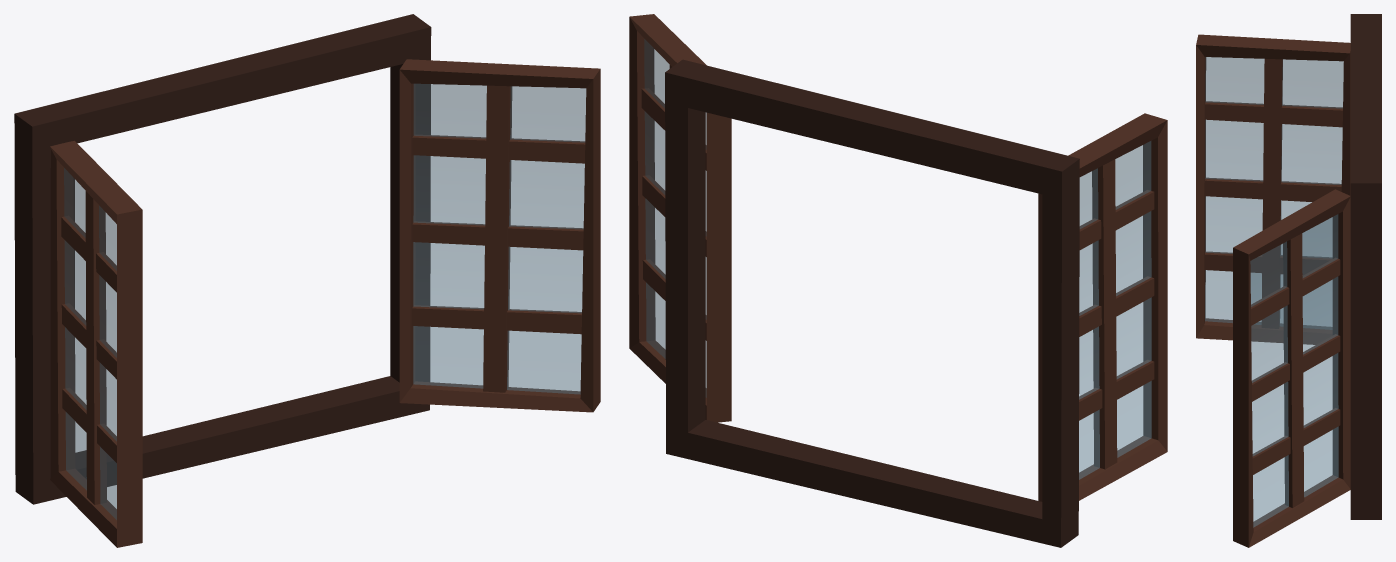
Rendered from Window 4x4 Open.glb.
3 views of the same model, side by side, from view 1: azimuth 30°, elevation 25°; view 2: azimuth 150°, elevation 25°; view 3: azimuth 270°, elevation 25° (orthographic). The views are drawn at different scales.
Visible parts, largest first — view 1: Window 4x4 Open; view 2: Window 4x4 Open; view 3: Window 4x4 Open.
Boxes of the visible parts, left/top/right/bottom form: Window 4x4 Open: left=14, top=14, right=600, bottom=547; Window 4x4 Open: left=629, top=14, right=1167, bottom=547; Window 4x4 Open: left=1196, top=14, right=1381, bottom=547.
Bounding box in the file's own units: 2.66 × 1.9 × 0.9506.
Materials: 2 (2 with a texture image).
